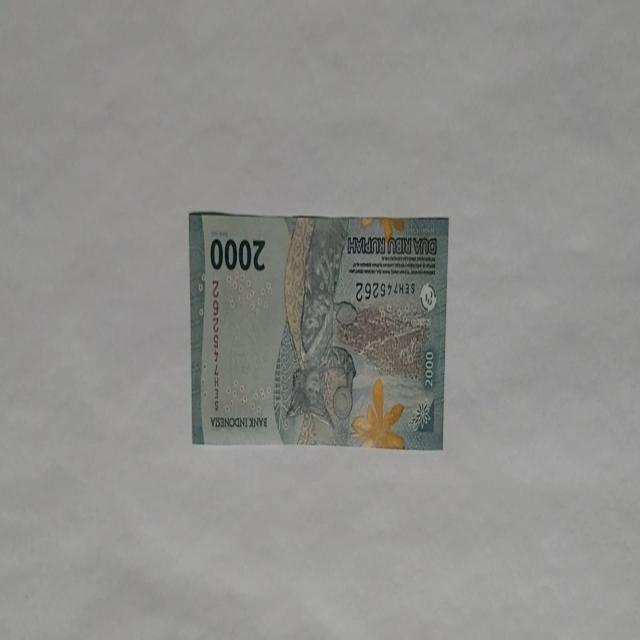dua ribu rupiah: (188, 210, 448, 449)
